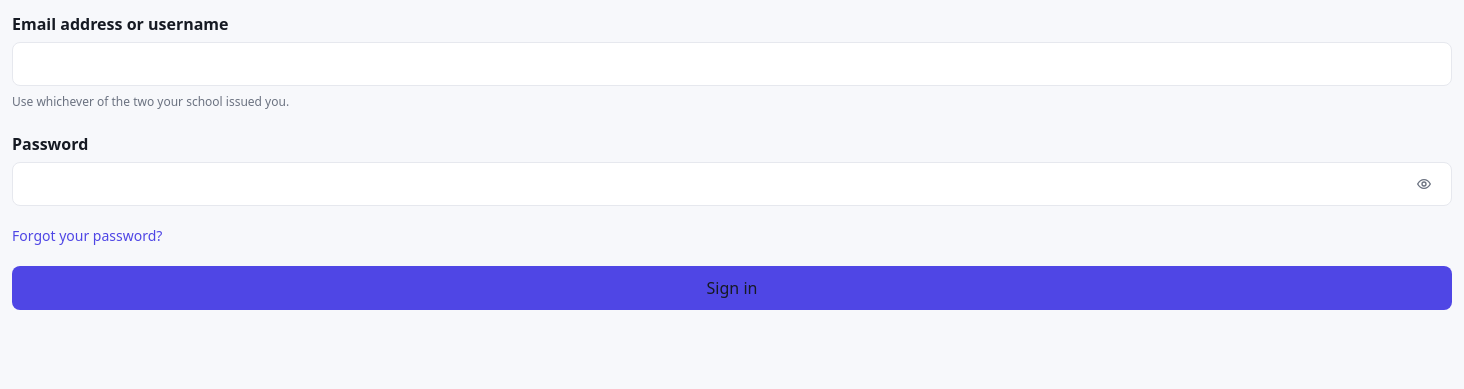
it: refusals › re-enables the form after a refusal, so a second attempt is possible
The width and height of the screenshot is (1464, 389).
Step 1. Type "amara@school.lk" into the field with test id "sign-in-identifier" → (732, 64), box x1=12 y1=42 x2=1452 y2=86
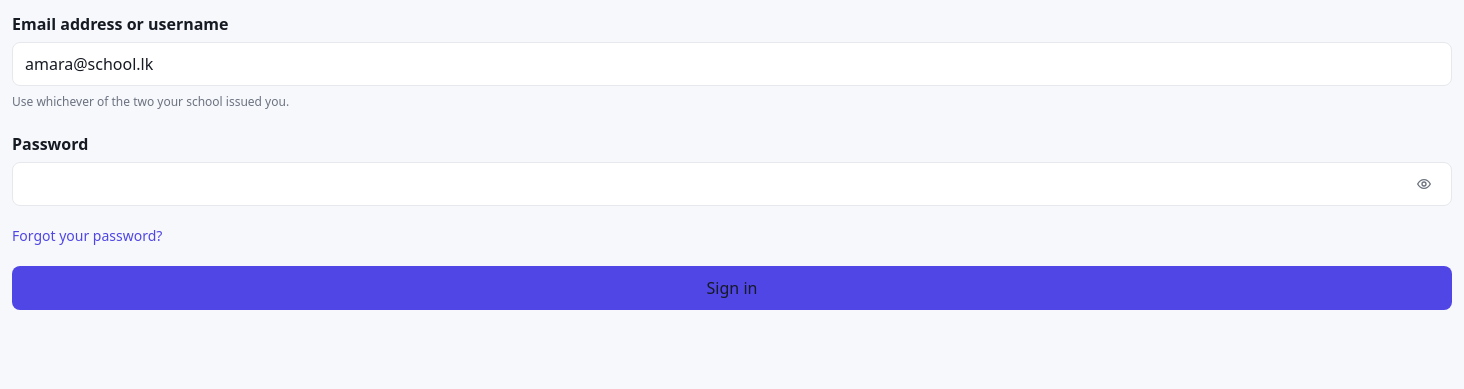
Step 2. Type "not-a-real-password" into the password field with test id "sign-in-password" → (732, 184), box x1=12 y1=162 x2=1452 y2=206
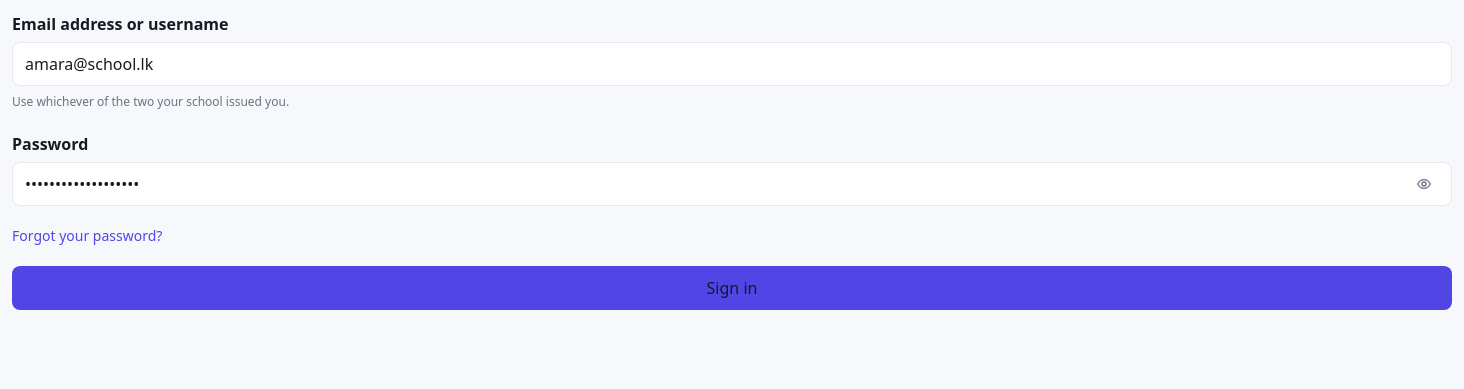
Step 3. Click the button with test id "sign-in-submit" → (732, 288), box x1=12 y1=266 x2=1452 y2=310
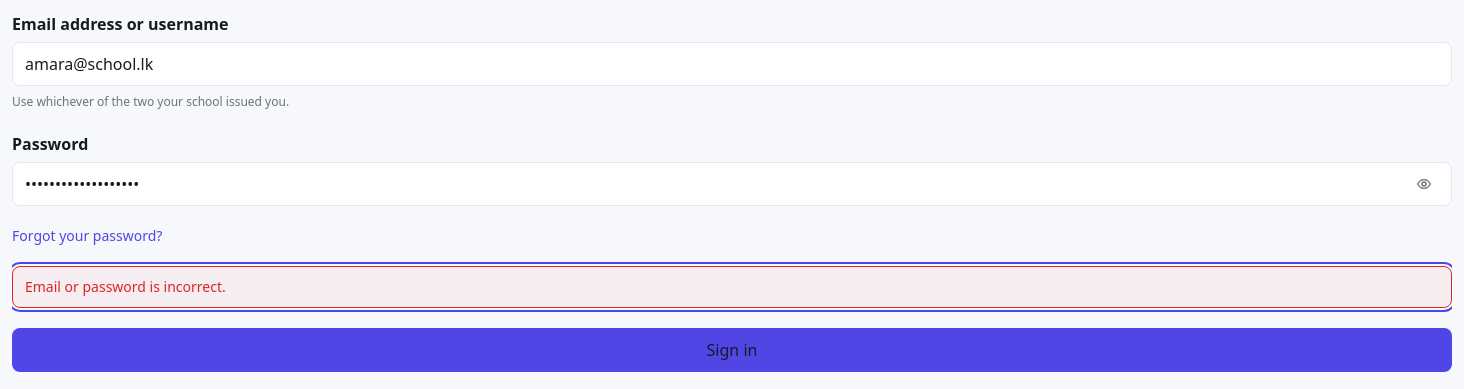
Expected: the button with test id "sign-in-submit" is enabled, x1=12 y1=328 x2=1452 y2=372
Expected: the message "Email or password is incorrect." is shown, x1=12 y1=266 x2=1452 y2=308
